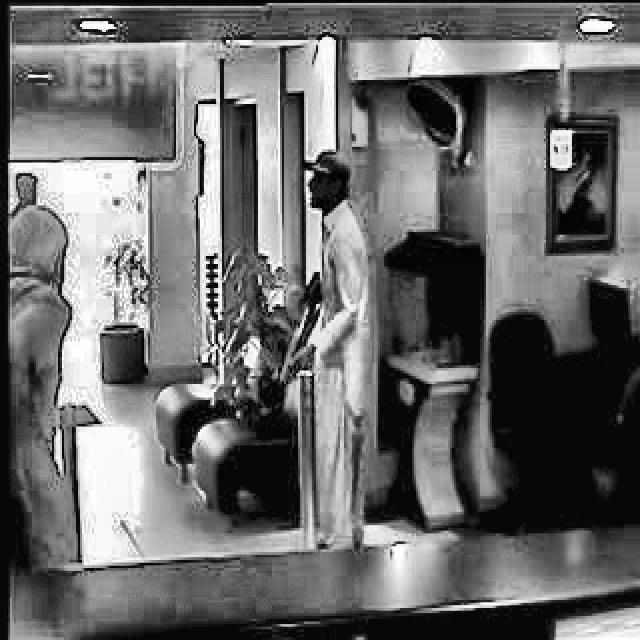robbery: (276, 148, 378, 559)
